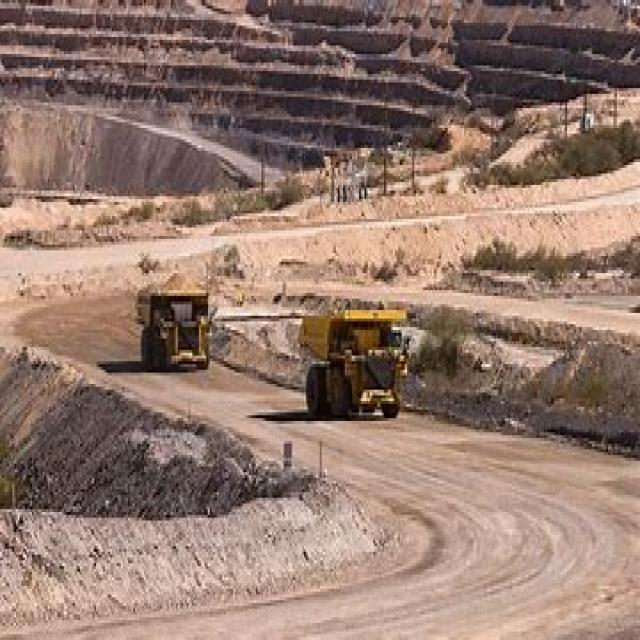dump_truck: (297, 304, 411, 424), (132, 256, 228, 381)
